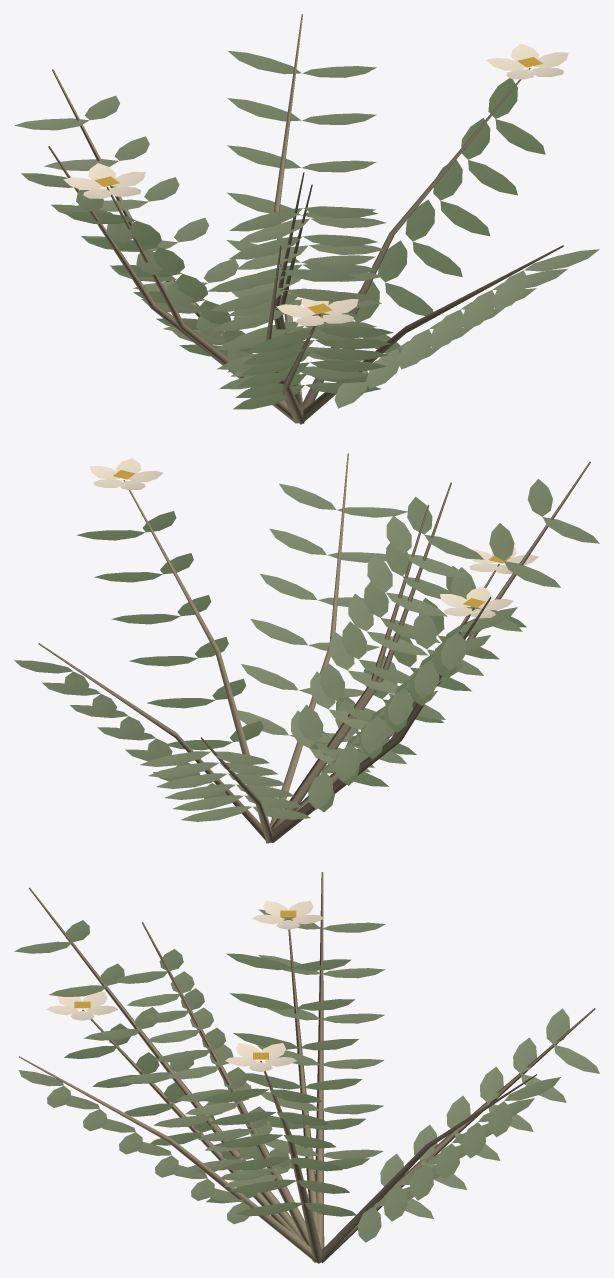
Rendered from CisteSauge_2_High.fbx.
3 views of the same model, one above another, from view 1: azimuth 30°, elevation 25°; view 2: azimuth 150°, elevation 25°; view 3: azimuth 270°, elevation 25° (orthographic). The views are drawn at different scales.
Parts seen in each view (by area): view 1: CisteSauge_2_High; view 2: CisteSauge_2_High; view 3: CisteSauge_2_High.
Part boxes in pixels (x1,y1,x2,y2): CisteSauge_2_High: (14, 14, 599, 424); CisteSauge_2_High: (14, 453, 599, 843); CisteSauge_2_High: (14, 872, 599, 1263).
Size of the model in its own units: 71.1 by 49.16 by 87.19.
